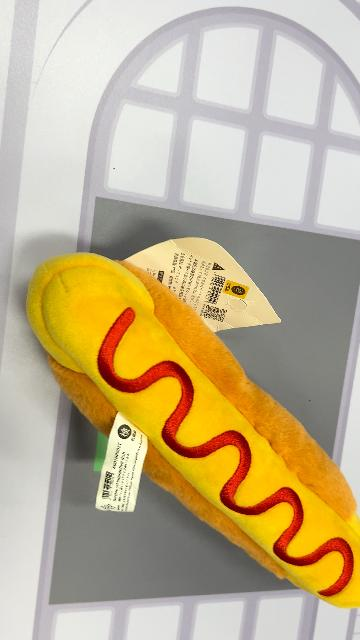hotdog: (25, 250, 358, 610)
